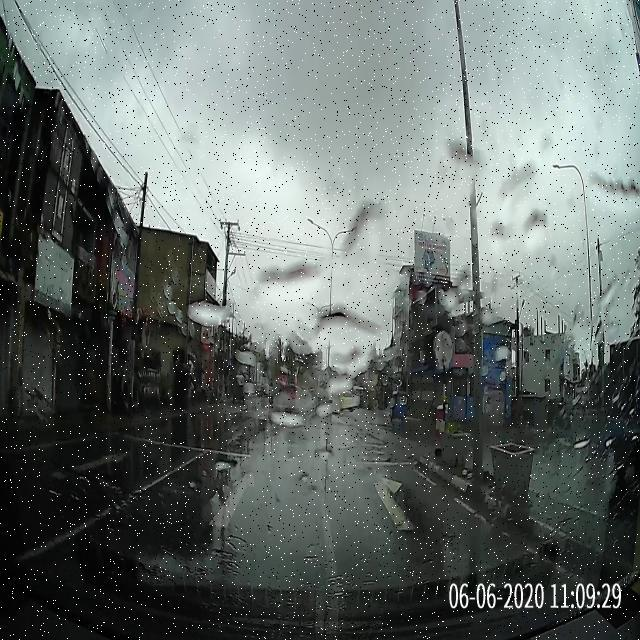forward: (16, 453, 335, 580)
right: (322, 465, 509, 549)
